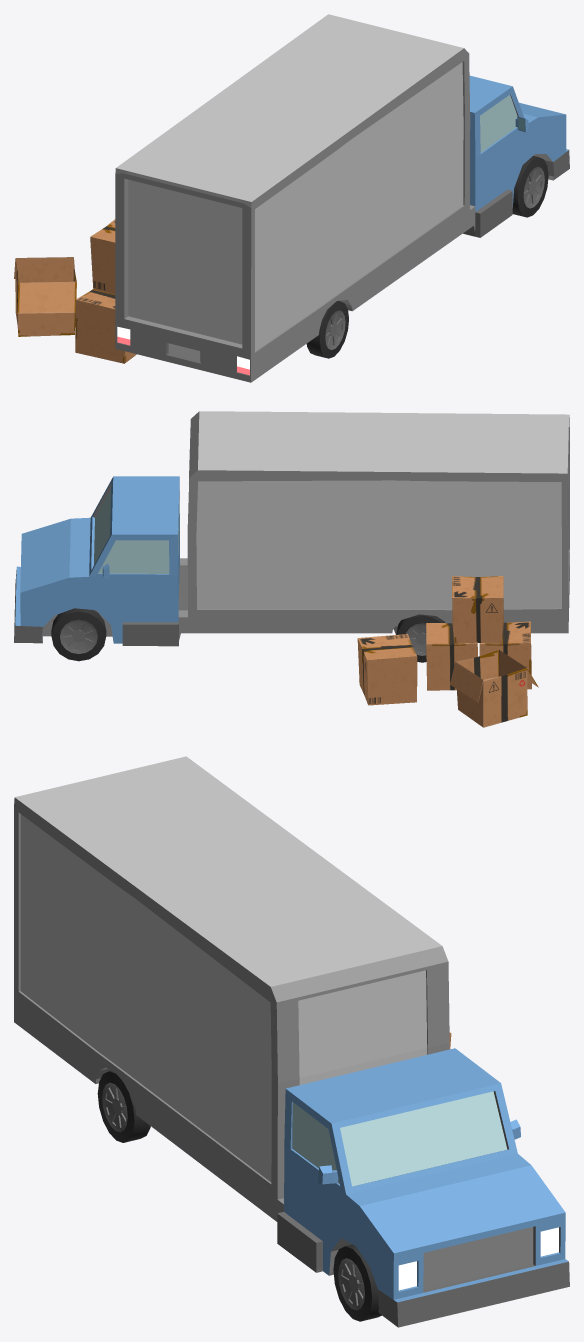
Rendered from deliver_scene.glb.
3 views of the same model, one above another, from view 1: azimuth 30°, elevation 25°; view 2: azimuth 150°, elevation 25°; view 3: azimuth 270°, elevation 25° (orthographic). The views are drawn at different scales.
Parts seen in each view (by area): view 1: Cube.012_15, Cube.004_7, Cube.011_14, Cube.003_6, Cube.010_13, Box.04_Box 4_0.002, Box.02_Box 2_0.002, Wheel.001_19, Box.02_Box 2_0.004, Wheel.004_21, Cube.008_11, Cube.014_17 (+3 smaller); view 2: Cube.012_15, Cube.010_13, Cube.011_14, Box.04_Box 4_0.002, Box.02_Box 2_0.005, Box.02_Box 2_0.004, Cube.014_17, Wheel.003_18, Box.02_Box 2_0.003, Cube.008_11, Box.02_Box 2_0.002, Wheel.002_20 (+2 smaller); view 3: Cube.012_15, Cube.010_13, Cube.011_14, Cube.014_17, Cube.008_11, Wheel.001_19, Wheel.004_21, Cube.009_12.
Part boxes in pixels (box(x1,y1,x2,y2)): Cube.012_15: box(116, 14, 463, 350); Cube.004_7: box(128, 179, 242, 344); Cube.011_14: box(251, 48, 534, 382); Cube.003_6: box(115, 154, 553, 382); Cube.010_13: box(469, 75, 568, 211); Box.04_Box 4_0.002: box(14, 257, 76, 336); Box.02_Box 2_0.002: box(75, 289, 136, 363); Wheel.001_19: box(512, 155, 548, 217); Box.02_Box 2_0.004: box(90, 219, 115, 294); Wheel.004_21: box(306, 300, 348, 358); Cube.008_11: box(475, 150, 569, 237); Cube.014_17: box(480, 95, 517, 152); Cube.012_15: box(196, 411, 568, 609); Cube.010_13: box(15, 476, 179, 643); Cube.011_14: box(42, 411, 568, 640); Box.04_Box 4_0.002: box(450, 650, 538, 727); Box.02_Box 2_0.005: box(357, 634, 417, 705); Box.02_Box 2_0.004: box(452, 576, 503, 643); Cube.014_17: box(94, 489, 169, 573); Wheel.003_18: box(51, 608, 106, 661); Box.02_Box 2_0.003: box(426, 623, 477, 690); Cube.008_11: box(14, 563, 179, 646); Box.02_Box 2_0.002: box(479, 621, 531, 689); Wheel.002_20: box(396, 614, 445, 662); Cube.012_15: box(15, 756, 441, 1181); Cube.010_13: box(284, 1048, 568, 1302); Cube.011_14: box(14, 797, 533, 1290); Cube.014_17: box(292, 1091, 507, 1186); Cube.008_11: box(277, 1212, 569, 1327); Wheel.001_19: box(333, 1244, 381, 1321); Wheel.004_21: box(97, 1070, 150, 1142); Cube.009_12: box(398, 1227, 558, 1290).
Size of the model in its own units: 43.87 by 15.92 by 29.57.
15 materials, 2 textured.
